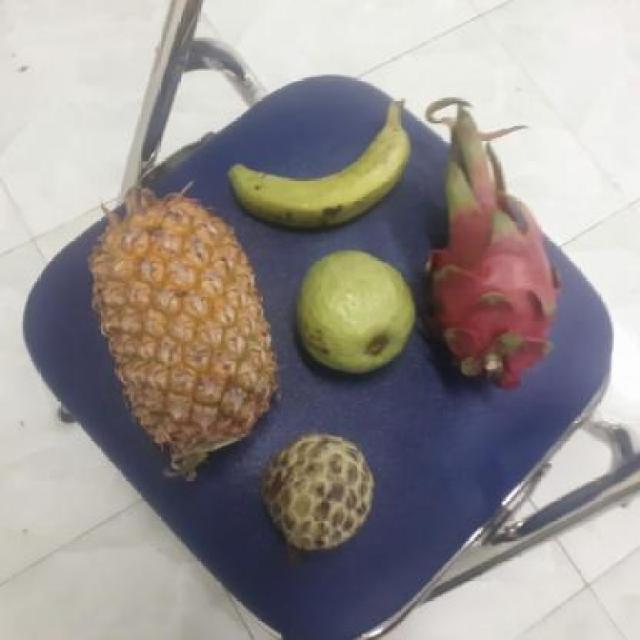banana: (225, 113, 406, 230)
dragon fruit: (415, 169, 560, 383)
guava: (289, 250, 416, 373)
pineapple: (81, 193, 277, 464)
sugar apple: (256, 432, 376, 552)
